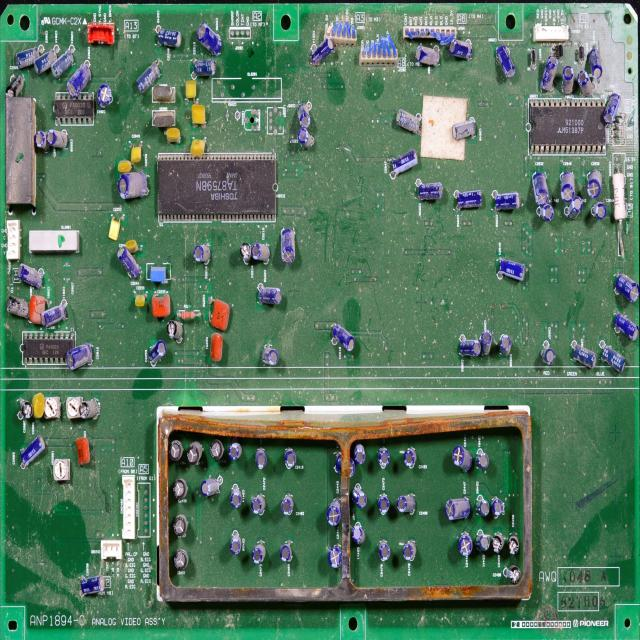Capacitor Jumper: (493, 251, 526, 284), (395, 105, 427, 139), (327, 319, 357, 355), (280, 224, 299, 270), (196, 24, 222, 56), (450, 191, 486, 214), (385, 151, 418, 176), (119, 172, 146, 202), (573, 342, 595, 378), (614, 312, 639, 343), (277, 540, 301, 572), (19, 436, 46, 464), (559, 170, 580, 206), (43, 303, 73, 328), (414, 178, 444, 202), (601, 343, 622, 377), (540, 52, 557, 93), (496, 43, 515, 79), (616, 272, 638, 303), (491, 188, 518, 213), (118, 249, 138, 282), (69, 343, 94, 369), (78, 574, 105, 598), (208, 295, 226, 331), (138, 63, 159, 93), (529, 165, 547, 200), (27, 294, 46, 327), (445, 495, 470, 520), (310, 40, 333, 67), (450, 119, 477, 142), (376, 540, 396, 571), (7, 294, 28, 323), (277, 449, 299, 476), (72, 62, 90, 94), (20, 262, 44, 286), (333, 452, 355, 478), (150, 291, 172, 317), (328, 544, 348, 572), (166, 127, 188, 152), (75, 434, 92, 466), (154, 28, 181, 48), (474, 530, 493, 558), (456, 336, 480, 358), (452, 442, 470, 471), (55, 49, 74, 76), (326, 499, 344, 527), (250, 543, 271, 567), (294, 99, 310, 130), (560, 65, 577, 94), (259, 341, 277, 368), (459, 533, 477, 560), (415, 46, 439, 66), (210, 333, 225, 365), (261, 290, 286, 309), (298, 133, 316, 159), (108, 212, 124, 241), (18, 47, 40, 68), (479, 331, 496, 358), (192, 242, 211, 266), (351, 444, 369, 469), (562, 193, 580, 218), (604, 91, 618, 123), (496, 329, 512, 357), (375, 446, 392, 472), (201, 478, 222, 499), (538, 198, 552, 229), (591, 43, 602, 82), (541, 344, 555, 374), (490, 496, 506, 522), (401, 538, 417, 564), (37, 48, 55, 71), (252, 244, 270, 267), (505, 562, 522, 586), (450, 38, 470, 58), (190, 136, 210, 156), (238, 239, 256, 261), (229, 486, 243, 514), (397, 491, 412, 517), (576, 66, 591, 92), (8, 74, 24, 98), (96, 85, 110, 112), (30, 391, 45, 416), (474, 447, 489, 472), (168, 440, 185, 462), (593, 196, 607, 222), (353, 486, 368, 510), (193, 58, 213, 76), (209, 437, 225, 459), (166, 321, 182, 343), (506, 531, 519, 558), (474, 496, 488, 521), (80, 400, 97, 420), (173, 548, 190, 568), (49, 127, 66, 147), (149, 342, 166, 362), (590, 174, 602, 202), (173, 513, 188, 535), (191, 104, 206, 126), (34, 128, 48, 151), (228, 442, 244, 462), (21, 401, 34, 425), (351, 523, 364, 547), (254, 447, 268, 469), (133, 291, 147, 313), (185, 443, 203, 460), (172, 479, 186, 500), (185, 78, 197, 102), (124, 238, 140, 256), (251, 496, 265, 516), (228, 536, 242, 556), (282, 495, 294, 518), (404, 446, 417, 466), (117, 158, 133, 174), (492, 531, 504, 551), (132, 145, 142, 169), (376, 496, 386, 512)
Connector: (122, 473, 137, 539), (6, 220, 21, 261), (101, 540, 121, 560)
IC: (156, 150, 276, 221), (528, 97, 609, 156), (23, 332, 74, 366), (54, 93, 96, 125)
Resistor Jumper: (179, 310, 205, 322)
Transistor: (578, 42, 586, 66), (552, 44, 562, 60), (530, 48, 535, 70)
